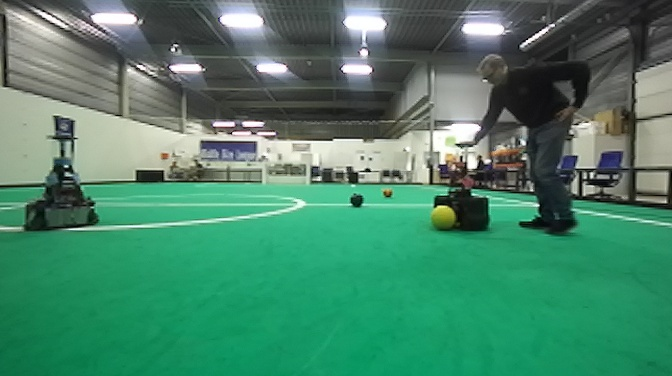ball: (427, 202, 456, 233), (347, 191, 367, 209), (382, 187, 395, 199)
goal: (260, 158, 311, 186)
goalpost: (261, 159, 268, 186), (305, 159, 311, 185)
human: (455, 52, 591, 239)
robot: (18, 131, 107, 235), (432, 139, 491, 234)
